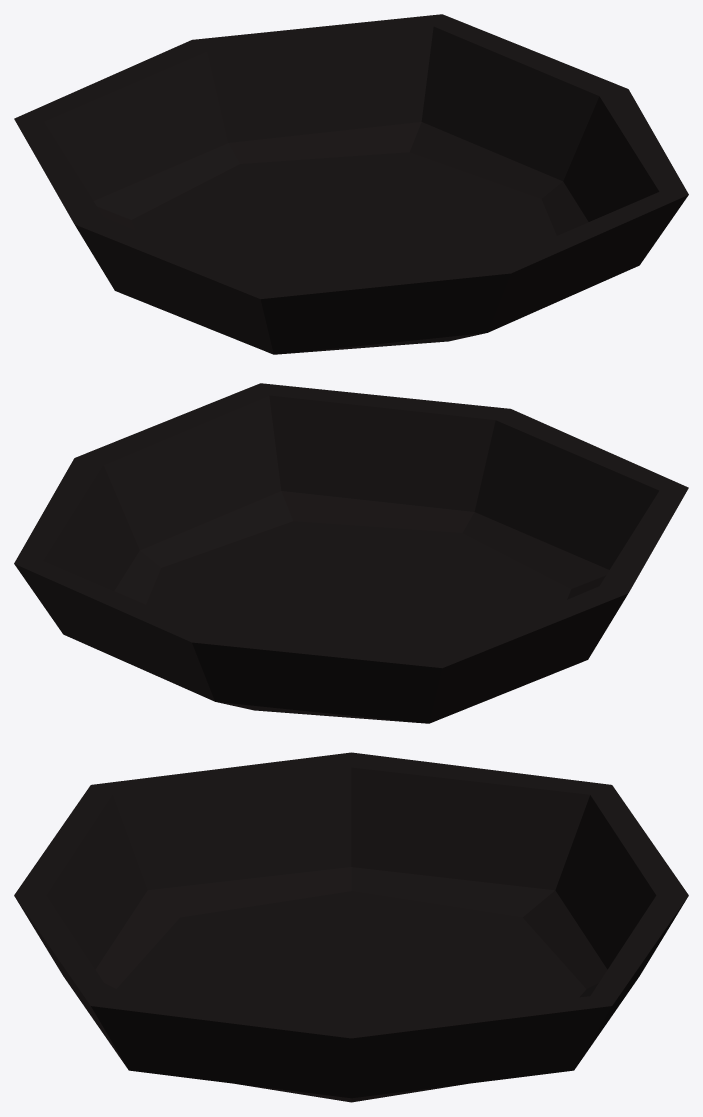
File: sushiBowl.fbx
The picture shows the model from 3 angles, top to bottom: view 1: azimuth 30°, elevation 25°; view 2: azimuth 150°, elevation 25°; view 3: azimuth 270°, elevation 25°; orthographic projection. The views are drawn at different scales.
Parts seen in each view (by area): view 1: sushiBowl; view 2: sushiBowl; view 3: sushiBowl.
Boxes of the visible parts, <box> form: sushiBowl: <box>14,14,688,354</box>; sushiBowl: <box>14,383,688,723</box>; sushiBowl: <box>14,752,688,1102</box>.
Bounding box in the file's own units: 28.07 × 5.5 × 28.01.
1 material, 1 textured.
